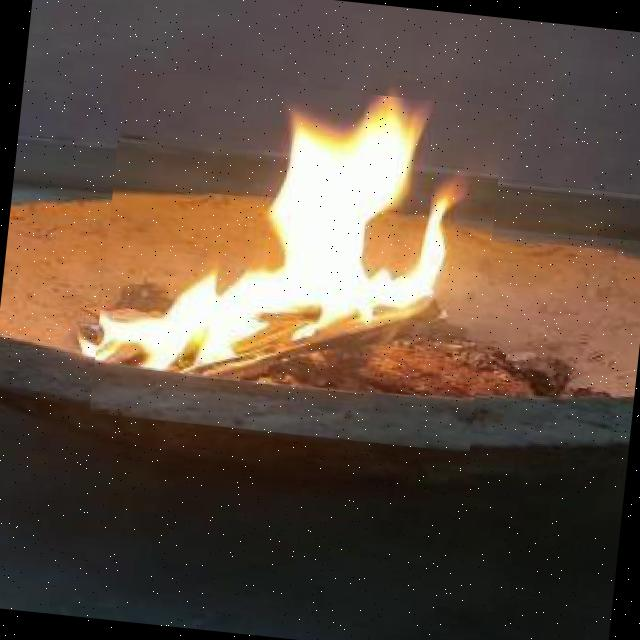fire: (89, 69, 505, 452)
